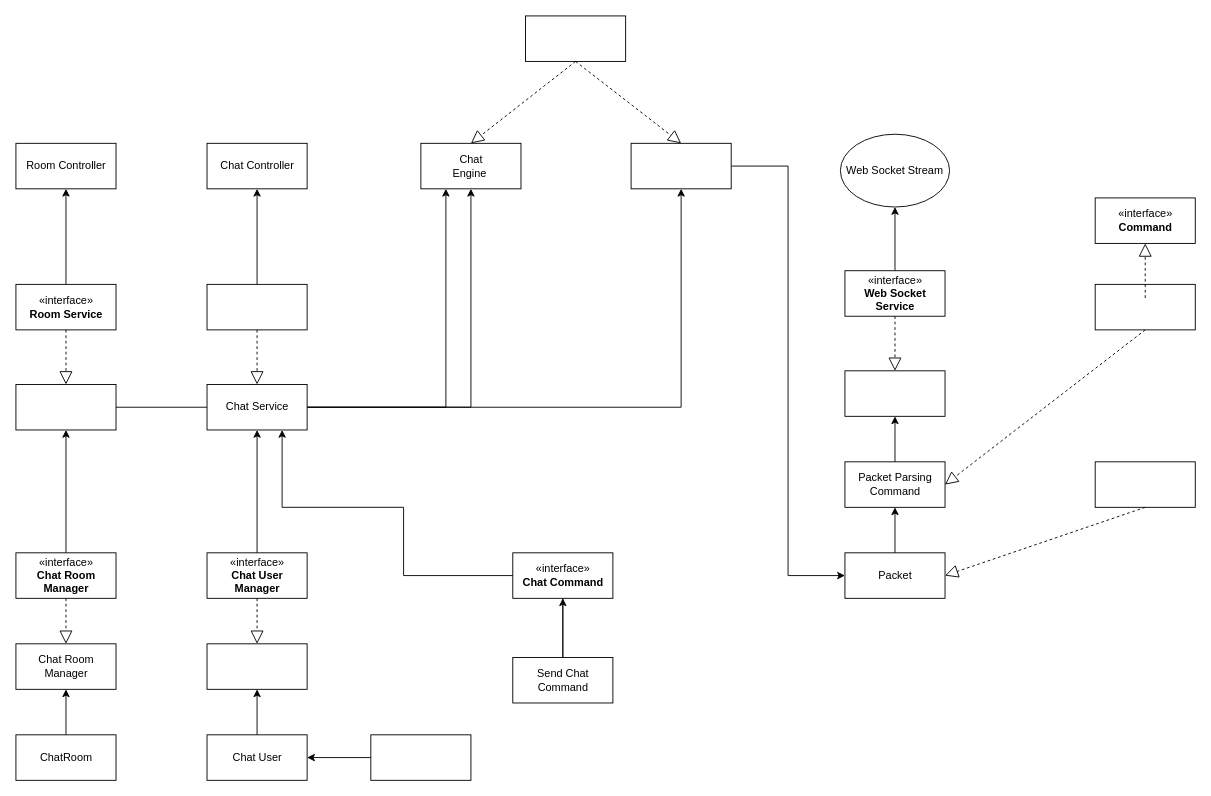
Some shapes in this 1211 by 796 pixel diagram are drawn without their labels. The box of each missing label's shape, as (x1, y1, x2, y2) in pixels:
Chat User Manager: (206, 643, 307, 689)
Packet Parsing Engine: (630, 142, 731, 189)
Room Service: (15, 384, 116, 430)
Socket Clinet: (370, 734, 471, 780)
Web Socket Service: (844, 370, 945, 416)
«interface» Chat Service: (206, 283, 307, 330)
«interface» Engine: (525, 15, 626, 61)
«interface» IPacket: (1094, 461, 1195, 507)
«interface» Packet Command: (1094, 283, 1195, 330)
